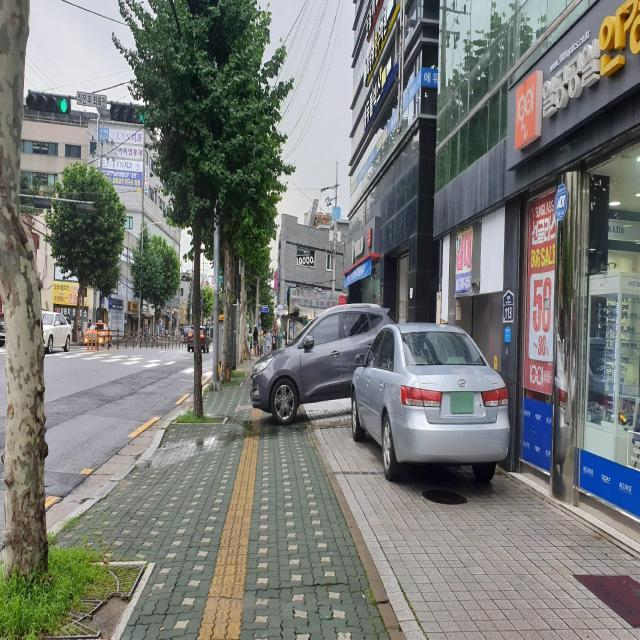car ahead at: (349, 319, 514, 495)
tree ahead at: (114, 0, 277, 421)
